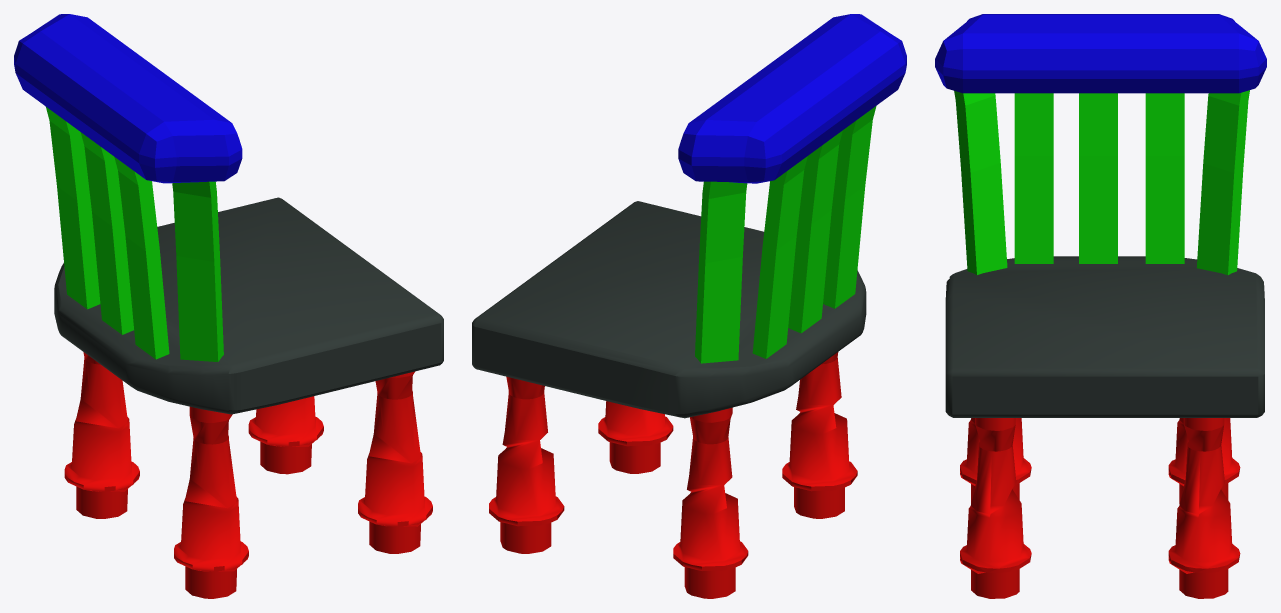
Rendered from SM_Seat.fbx.
3 views of the same model, side by side, from view 1: azimuth 30°, elevation 25°; view 2: azimuth 150°, elevation 25°; view 3: azimuth 270°, elevation 25° (orthographic). The views are drawn at different scales.
Visible parts, largest first — view 1: SM_Seat; view 2: SM_Seat; view 3: SM_Seat.
Boxes of the visible parts, box(x1,y1,x2,y2) form: SM_Seat: box(14, 14, 443, 598); SM_Seat: box(472, 14, 906, 598); SM_Seat: box(935, 14, 1266, 598).
Size of the model in its own units: 45.81 by 45.05 by 70.52.
